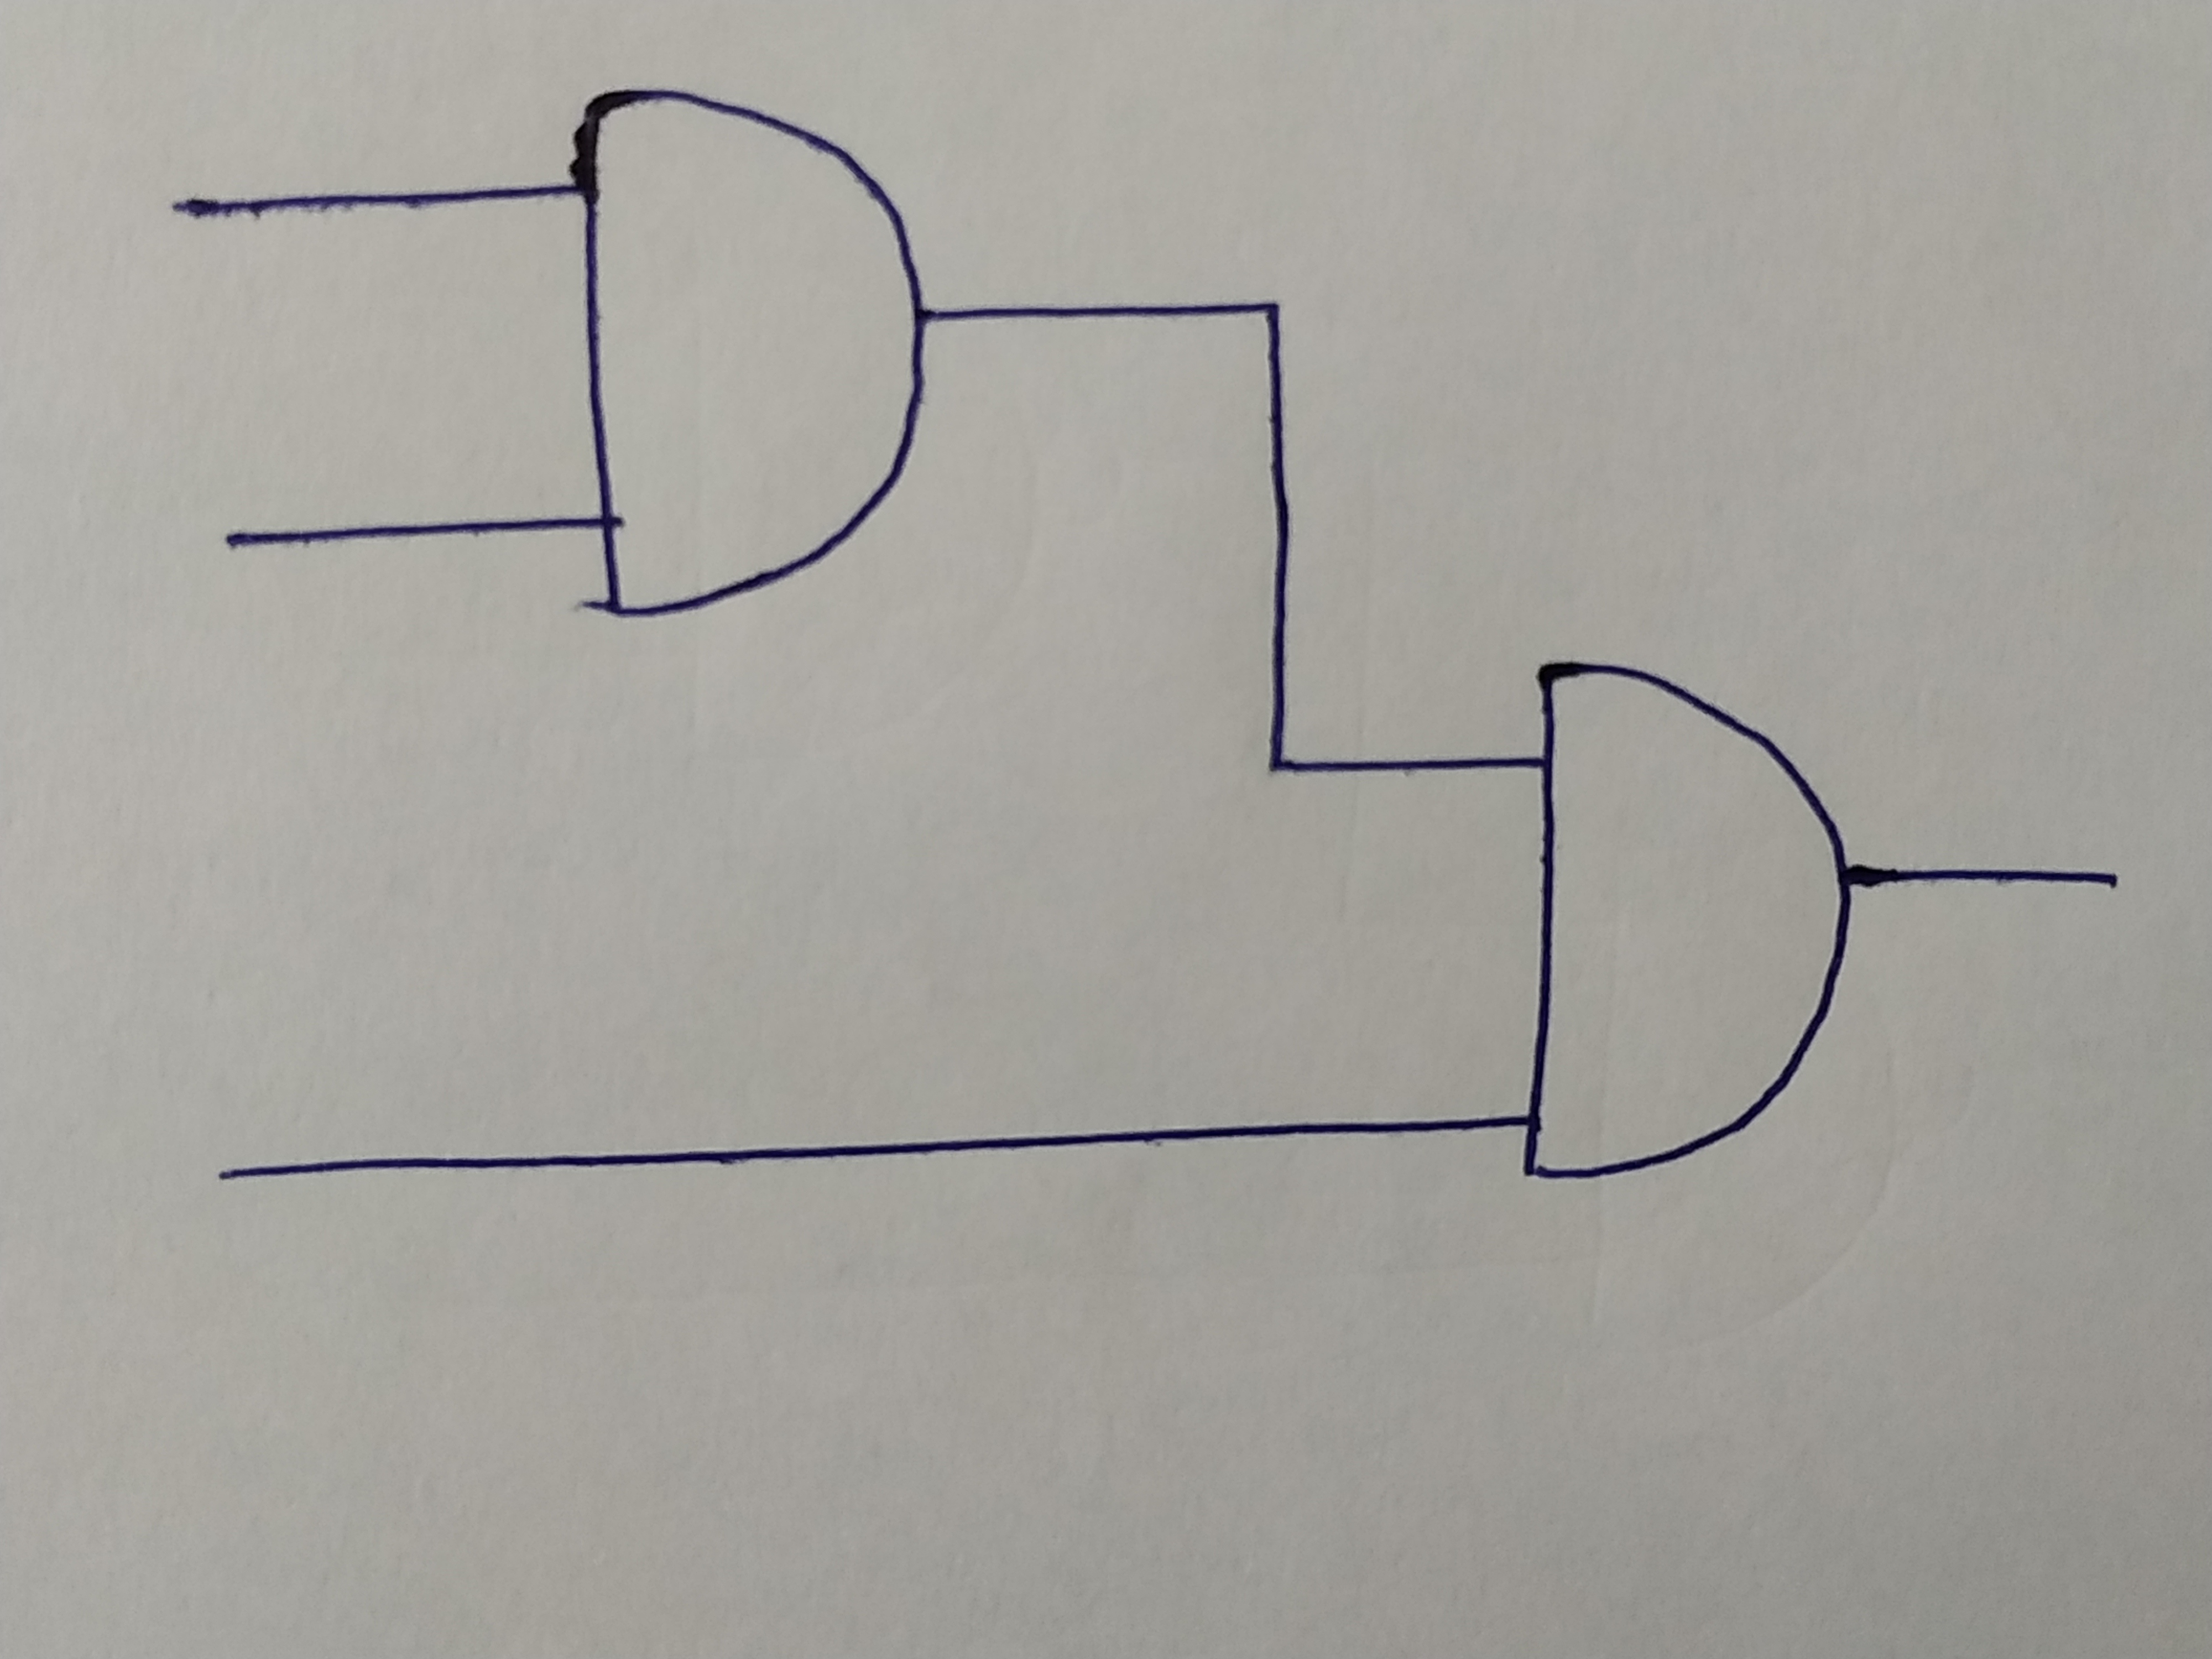and: (577, 89, 925, 615), (1531, 662, 1843, 1180)
